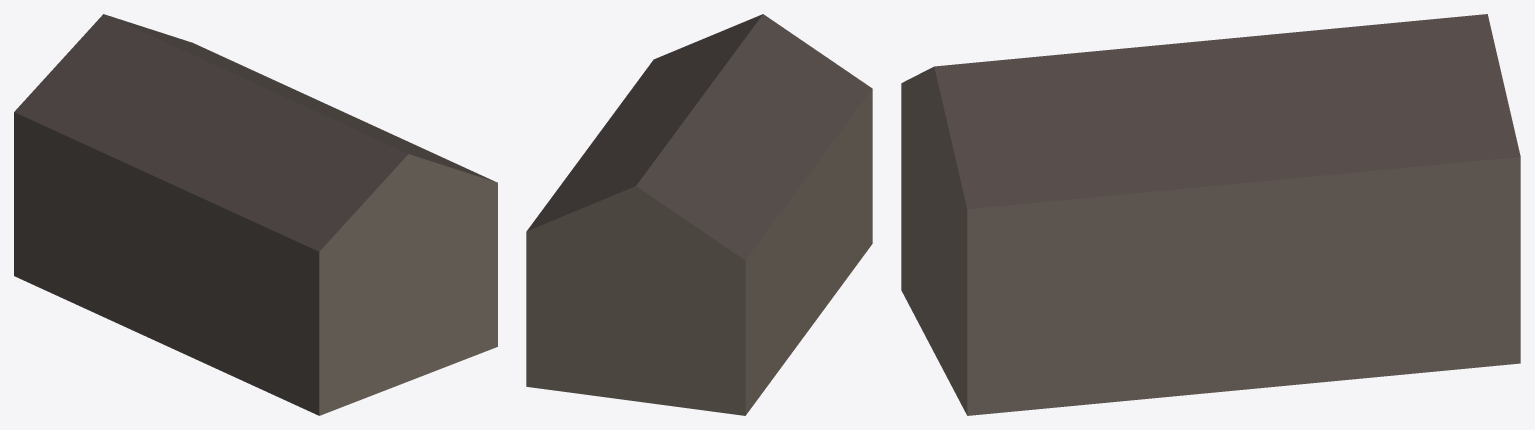
3 views of the same model, side by side, from view 1: azimuth 30°, elevation 25°; view 2: azimuth 150°, elevation 25°; view 3: azimuth 270°, elevation 25° (orthographic). The views are drawn at different scales.
Visible parts, largest first — view 1: HP-w1376988819; view 2: HP-w1376988819; view 3: HP-w1376988819.
Boxes of the visible parts, left/top/right/bottom form: HP-w1376988819: left=14, top=14, right=497, bottom=415; HP-w1376988819: left=526, top=14, right=872, bottom=415; HP-w1376988819: left=901, top=14, right=1520, bottom=415.
Size of the model in its own units: 11.12 by 8.32 by 16.31.
